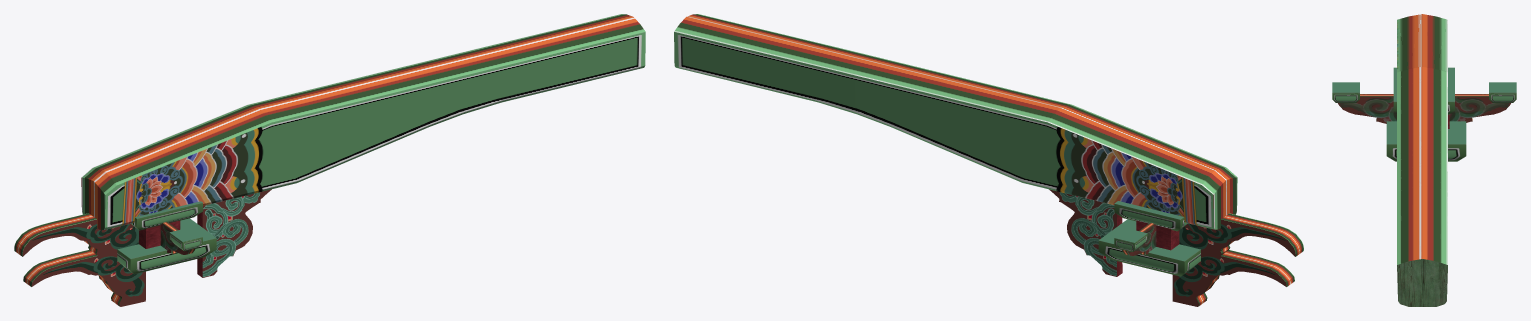
The model's file is SM_R_Beam_24.fbx.
The picture shows the model from 3 angles, left to right: view 1: azimuth 30°, elevation 25°; view 2: azimuth 150°, elevation 25°; view 3: azimuth 270°, elevation 25°; orthographic projection. The views are drawn at different scales.
Parts seen in each view (by area): view 1: SM_R_Beam_24; view 2: SM_R_Beam_24; view 3: SM_R_Beam_24.
Boxes of the visible parts, x1,y1,x2,y2 form: SM_R_Beam_24: (14,14,645,306); SM_R_Beam_24: (674,14,1303,306); SM_R_Beam_24: (1332,14,1516,306).
Bounding box in the file's own units: 526 × 130 × 132.
3 materials, 3 textured.
